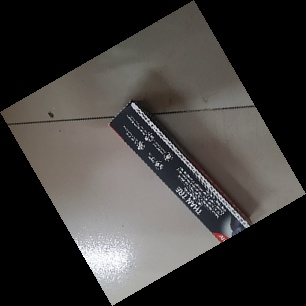Colgate Than: (108, 100, 257, 246)
